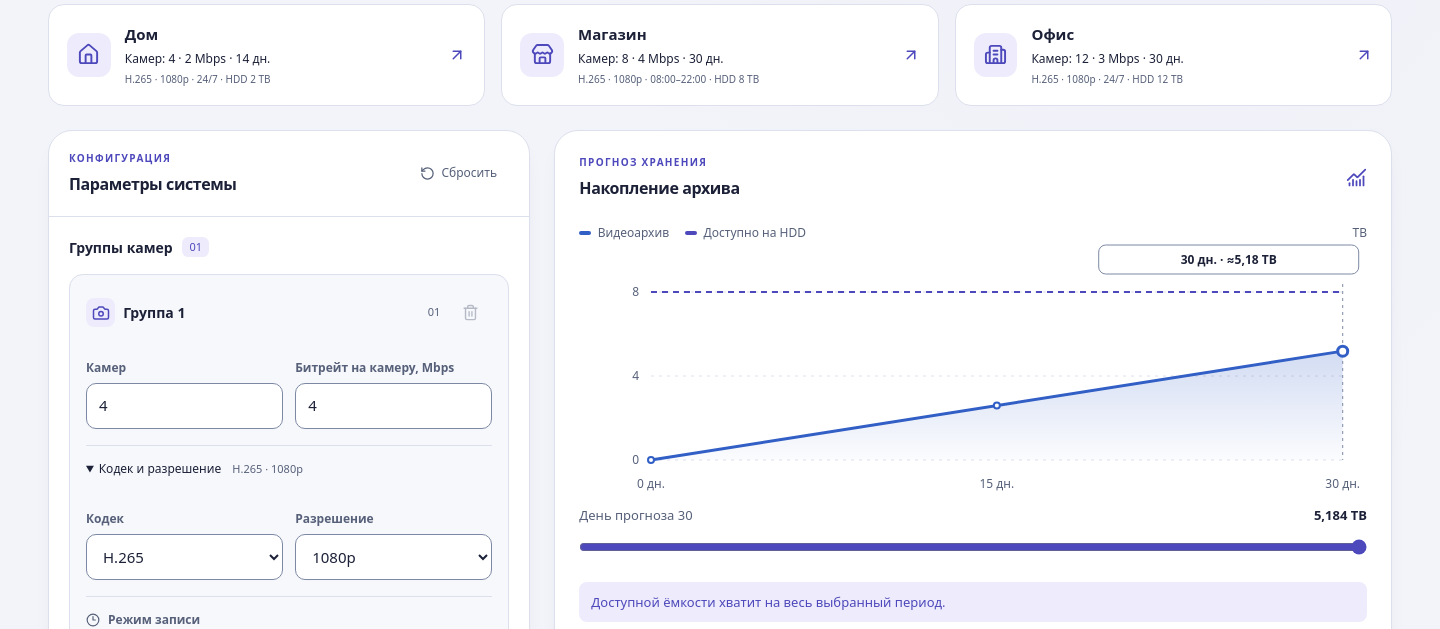
Test case: calculator interactions › blocks invalid count  and restores results after correction
(page scrolled)
Clear the field labelled "Камер" at (185, 406), box [86,383,283,429]
(page scrolled)
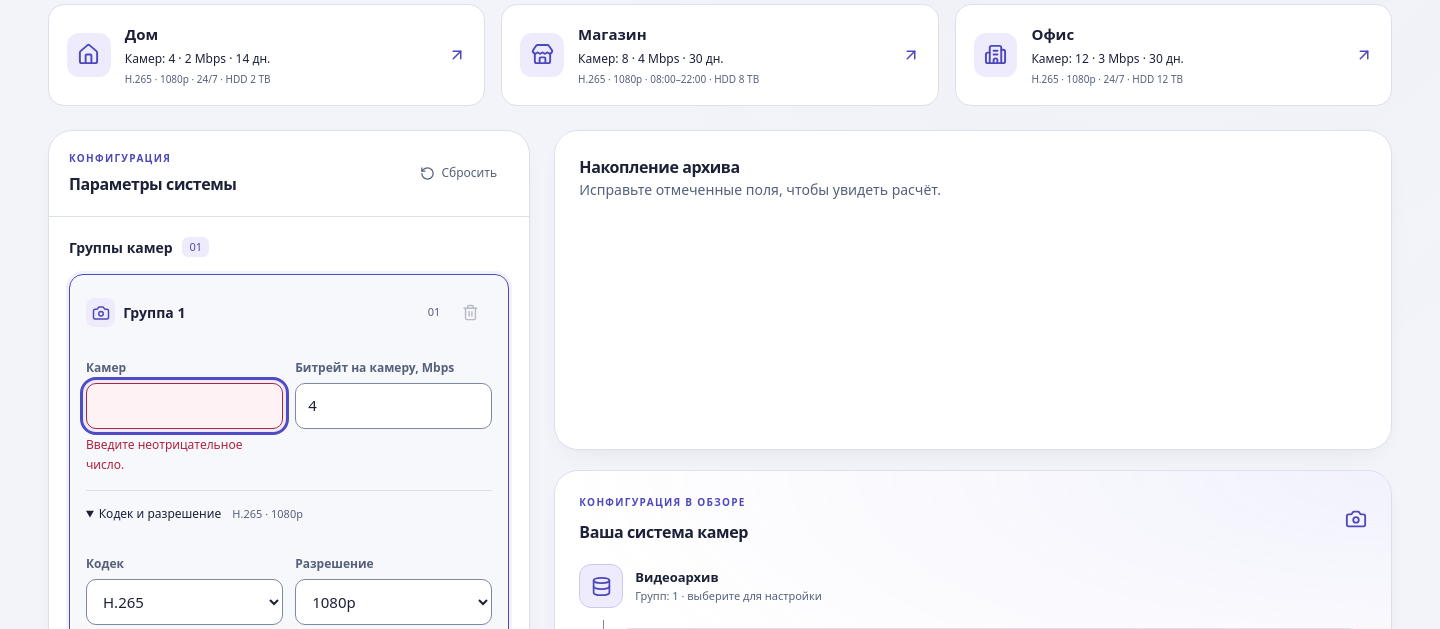
Expected: the message "Введите неотрицательное число." is shown, [86,436,242,472]
Type "1" into the field labelled "Камер" at (185, 406), box [86,383,283,429]
(page scrolled)
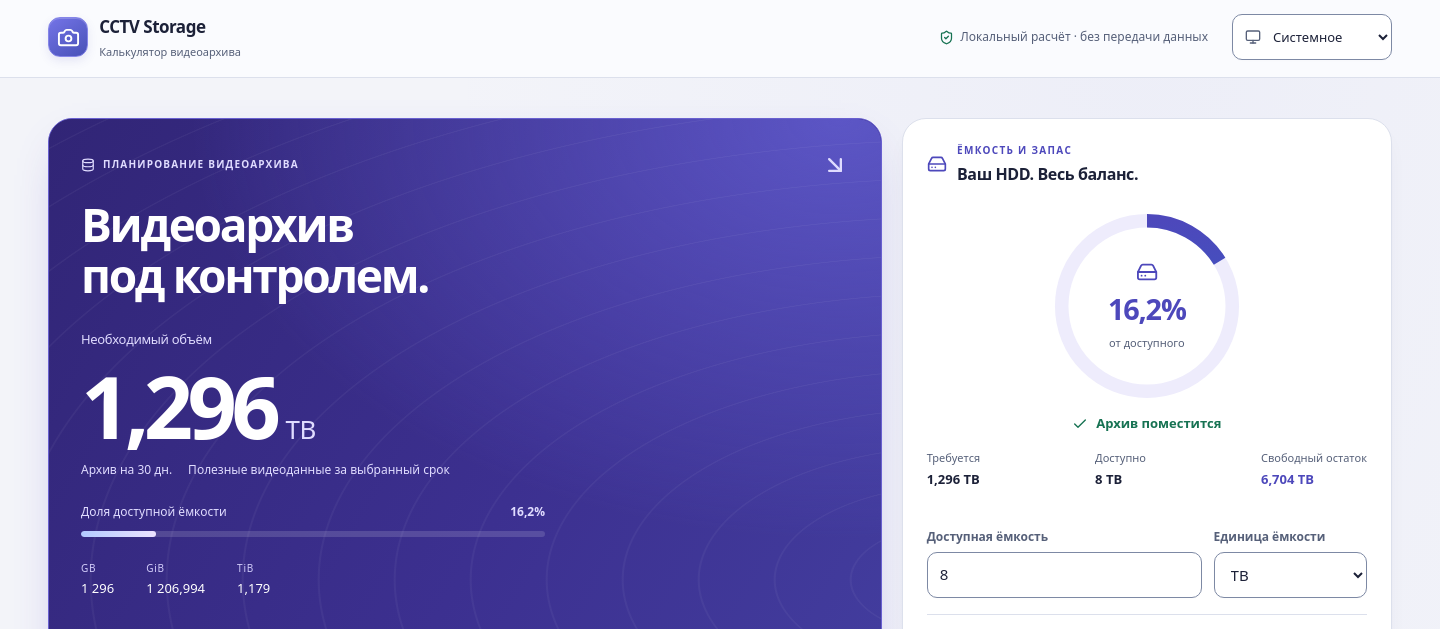
Expected: the element with test id "total-tb" shows "1,296", [81,347,275,464]
